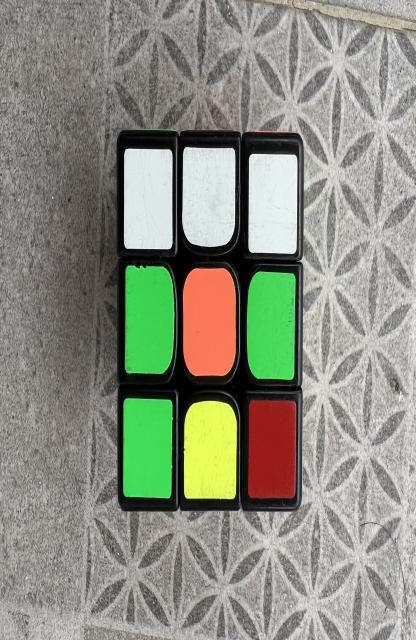Green: (125, 265, 175, 375), (247, 272, 296, 380), (123, 398, 172, 498)
Orange: (183, 268, 236, 377)
Red: (248, 400, 297, 498)
White: (182, 147, 236, 247), (124, 148, 173, 250), (248, 153, 297, 253)
Yellow: (184, 400, 237, 500)
